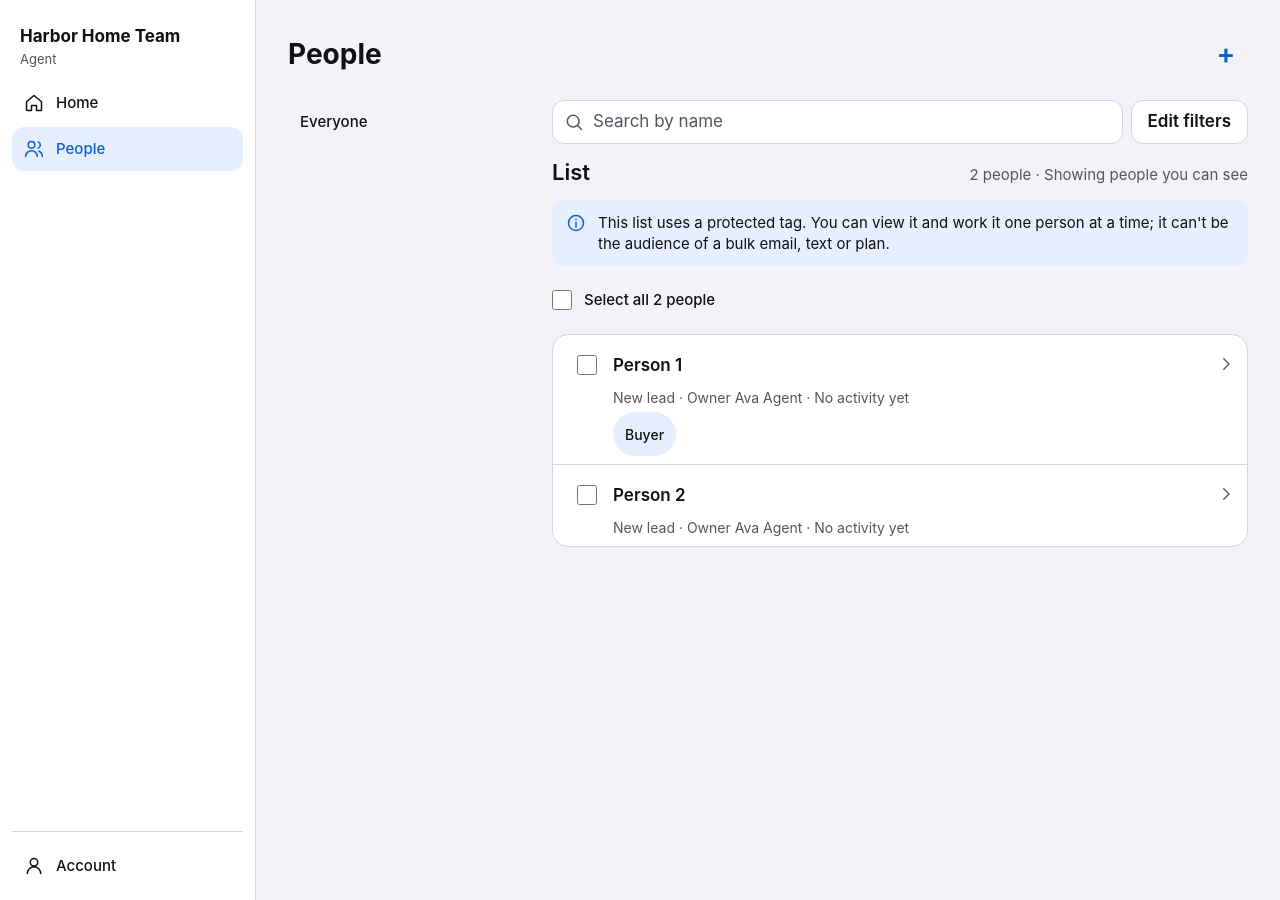
Test case: People page (module 61) › R-PAR-8 E189: a protected tag is never applied in bulk and a protected list is never a bulk send audience (the page says so up front; a send from it is refused
Check: the text "This list uses a protected tag" is shown, box left=598, top=213, right=1229, bottom=253
Note: hand-picked people from the list are still its audience: the email is refused before any template or draft
Click the checkbox named "Select Person 1".
click(587, 365)  # box left=577, top=355, right=597, bottom=375
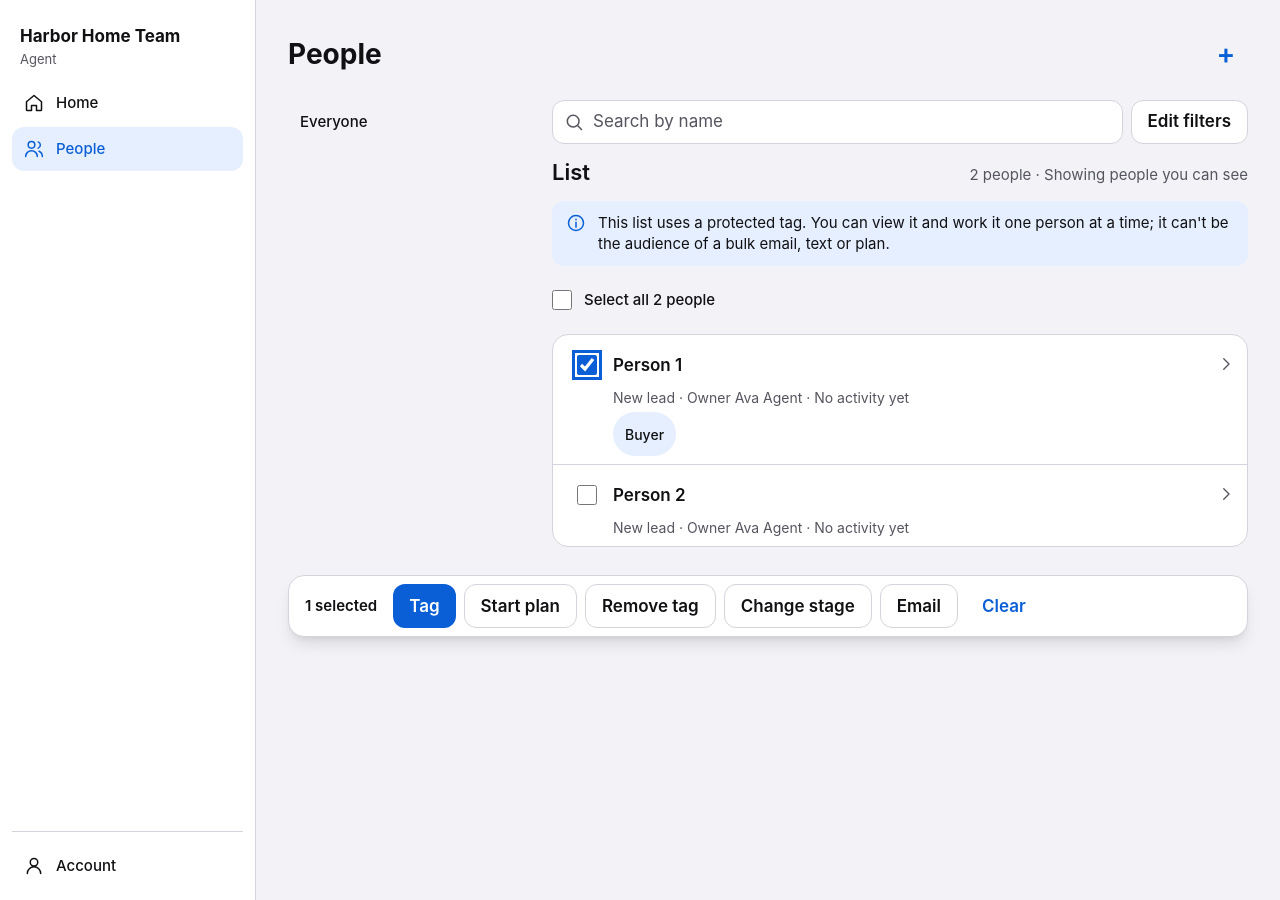
Click the button "Email".
click(919, 606)  # box left=880, top=584, right=958, bottom=628
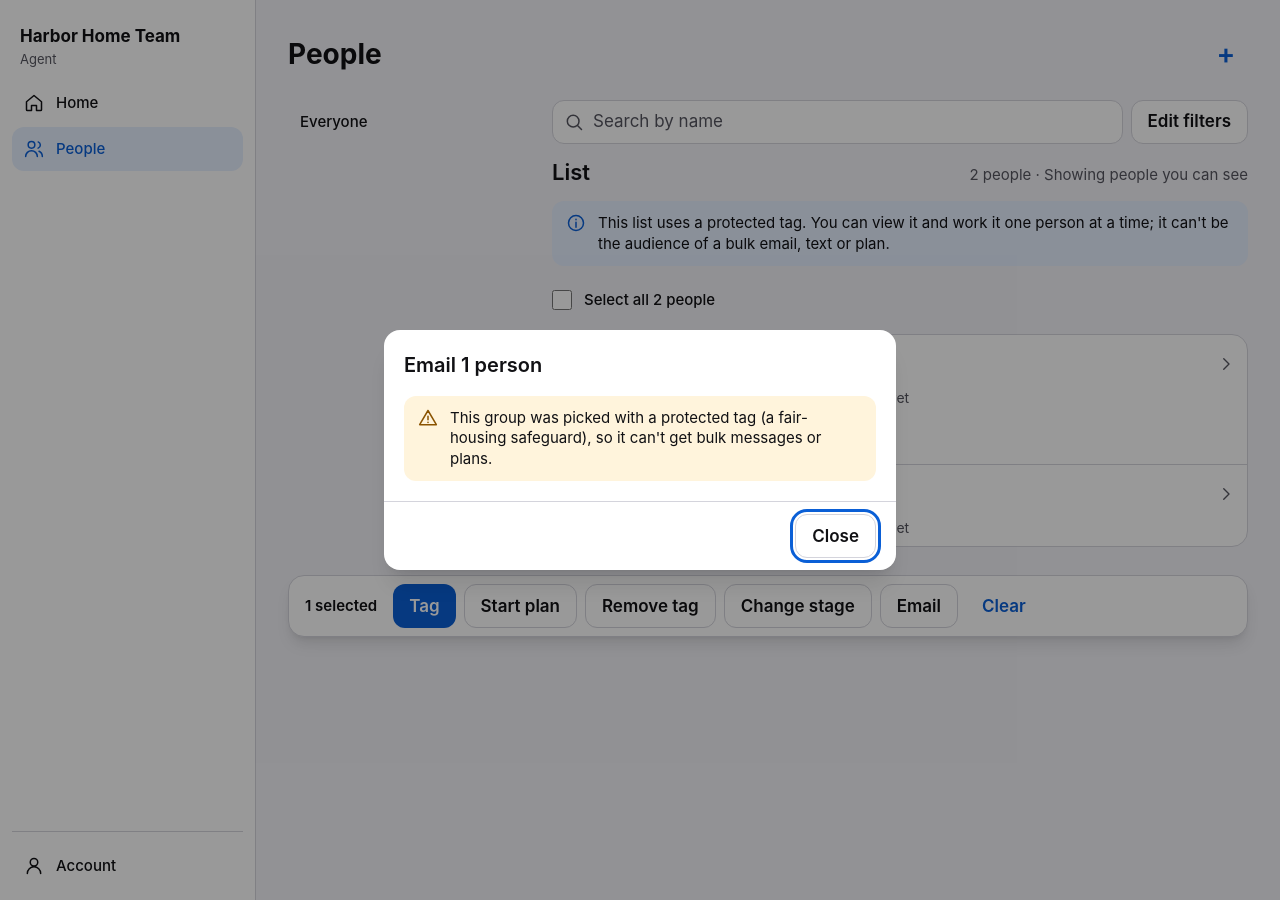
Check: the text "can't get bulk messages or plans" is shown, box left=450, top=408, right=821, bottom=468
Click the button "Close".
click(836, 536)  # box left=795, top=514, right=876, bottom=558
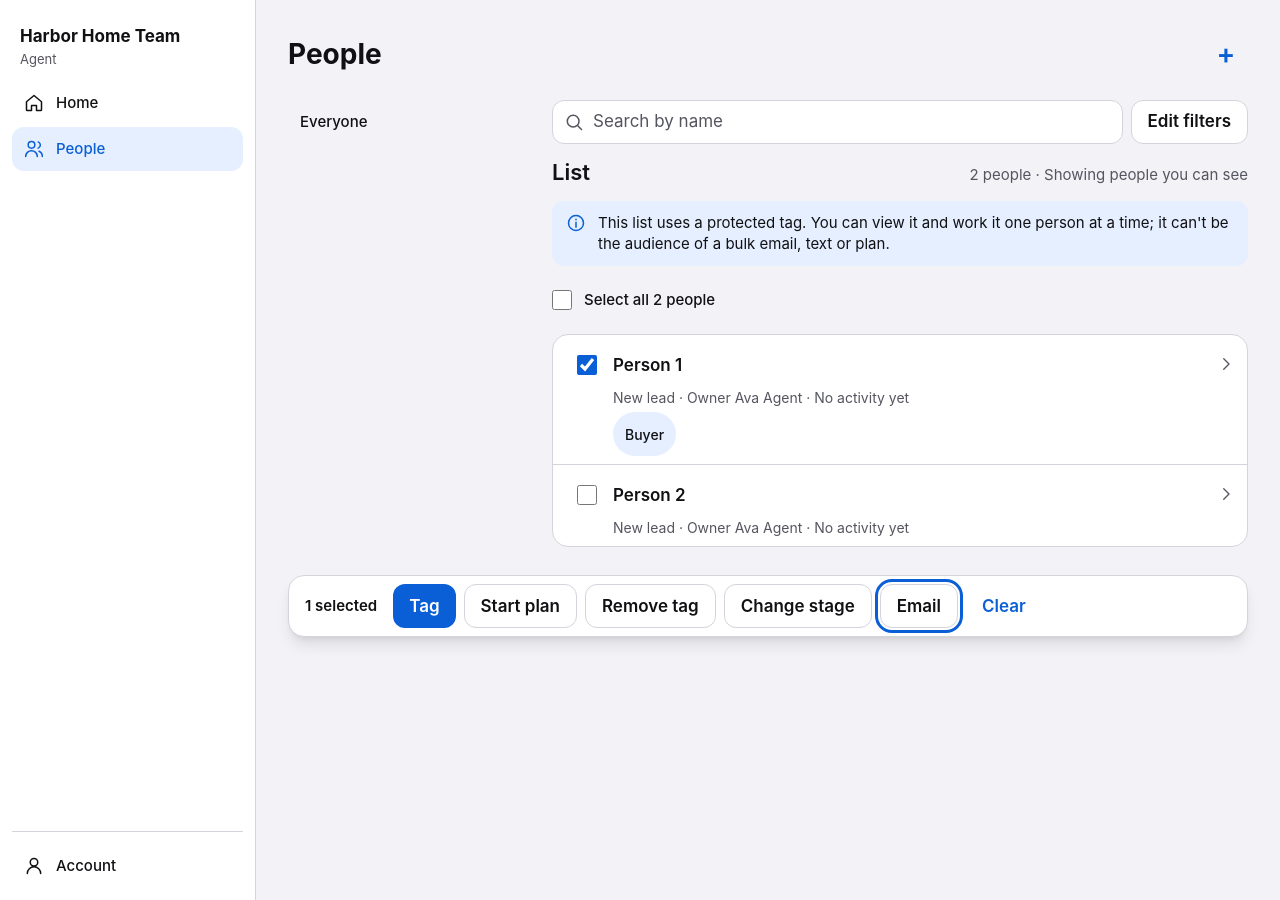
Check: the dialog is gone
Note: tagging is not a send, but a protected tag is never applied in bulk: the server refuses and the sheet says why
Click the button "Tag".
click(424, 606)  # box left=393, top=584, right=456, bottom=628
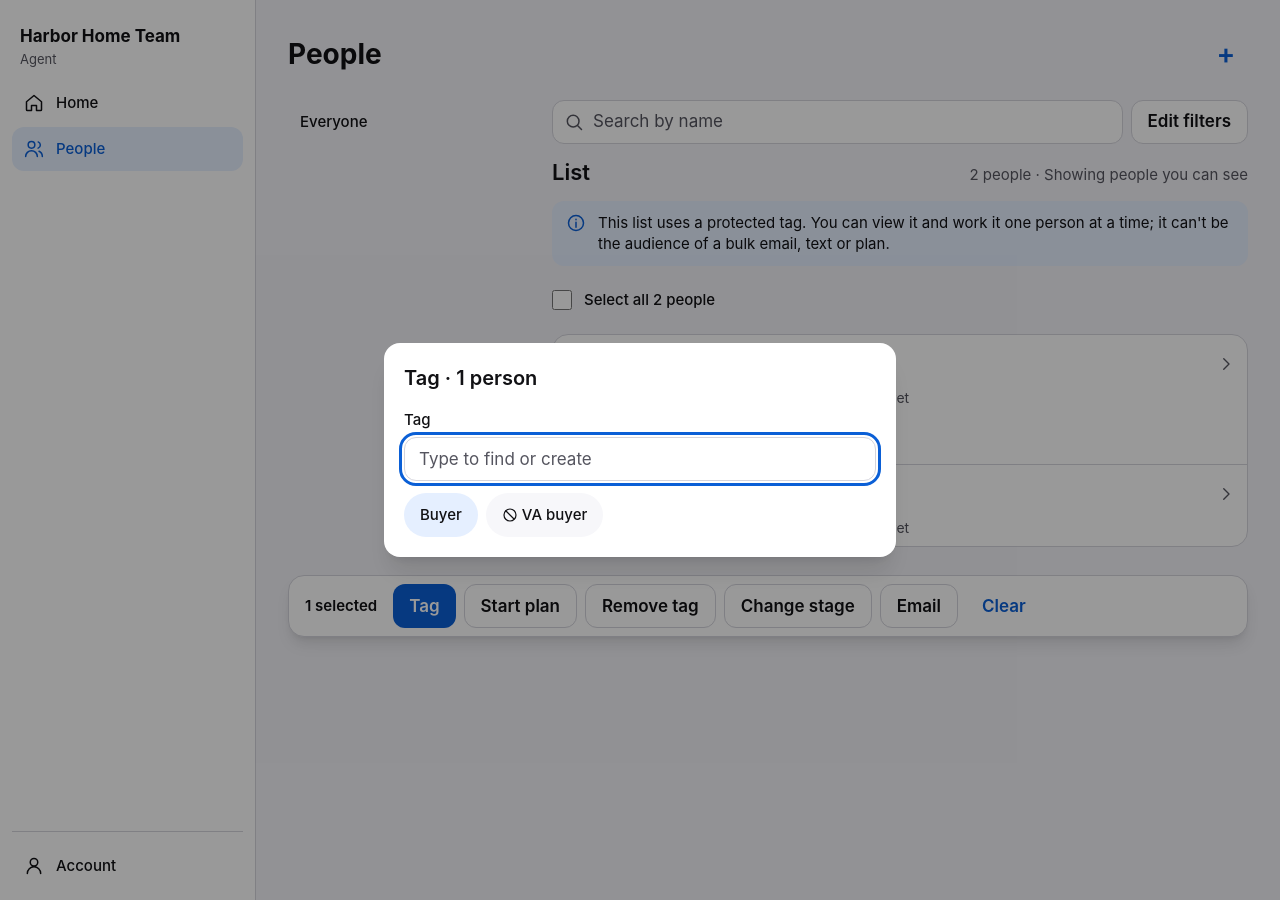
Click the button "VA buyer".
click(545, 515)  # box left=486, top=493, right=603, bottom=537
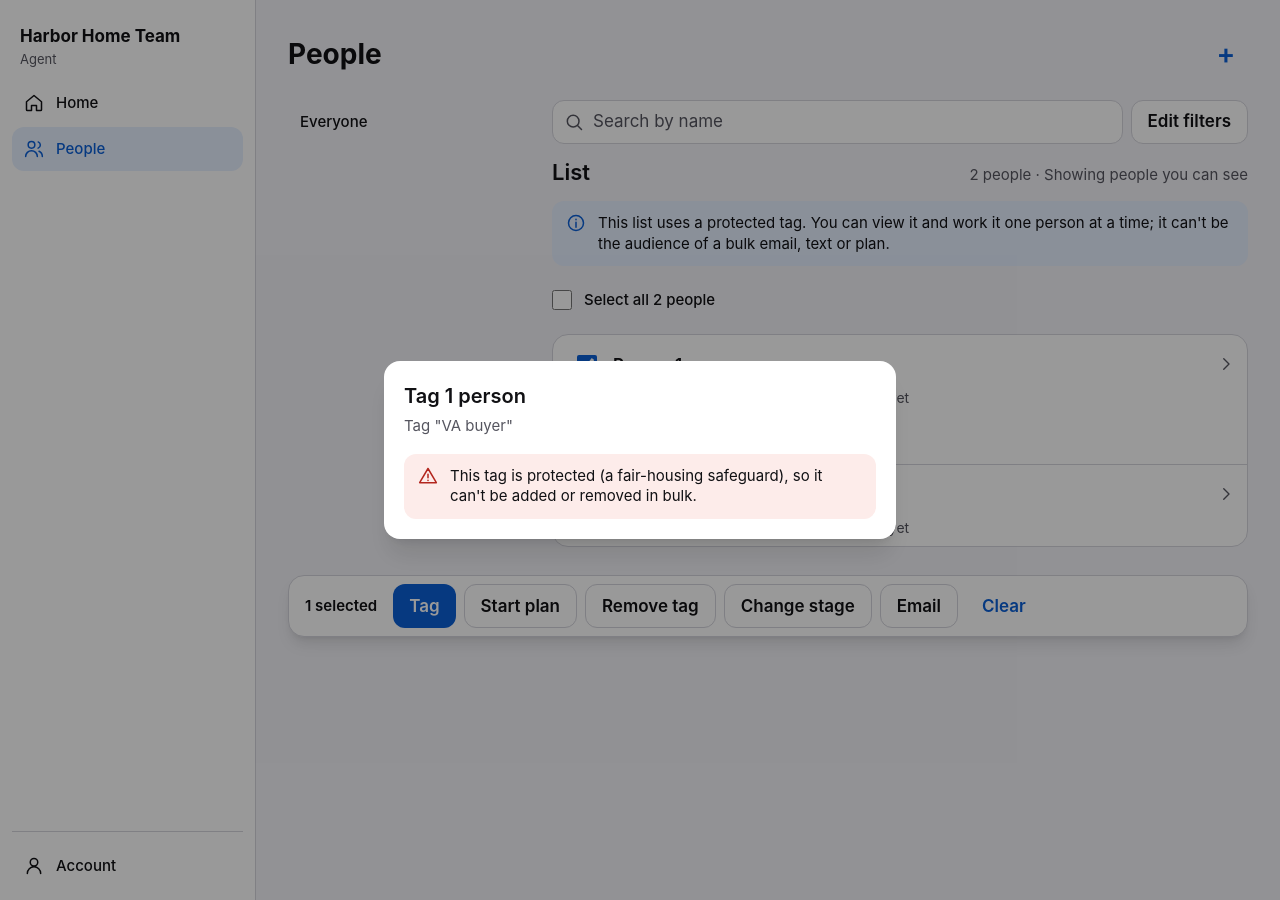
Check: the text "can't be added or removed in bulk" is shown, box left=450, top=466, right=822, bottom=505
